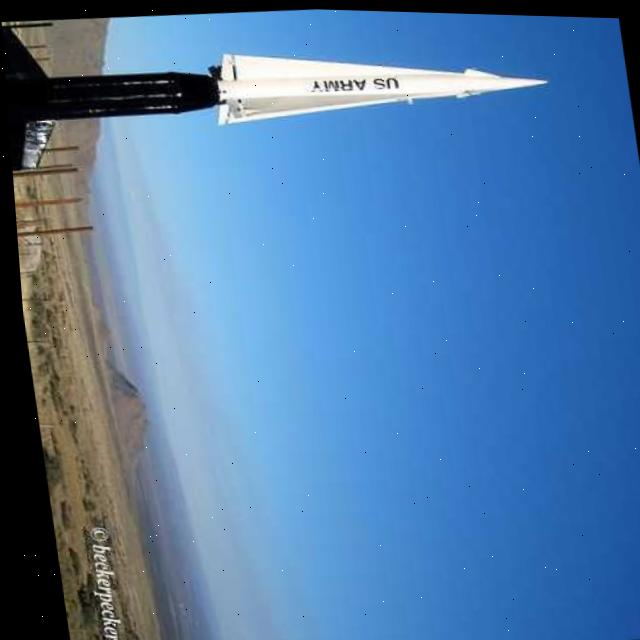missile: (197, 29, 557, 135)
